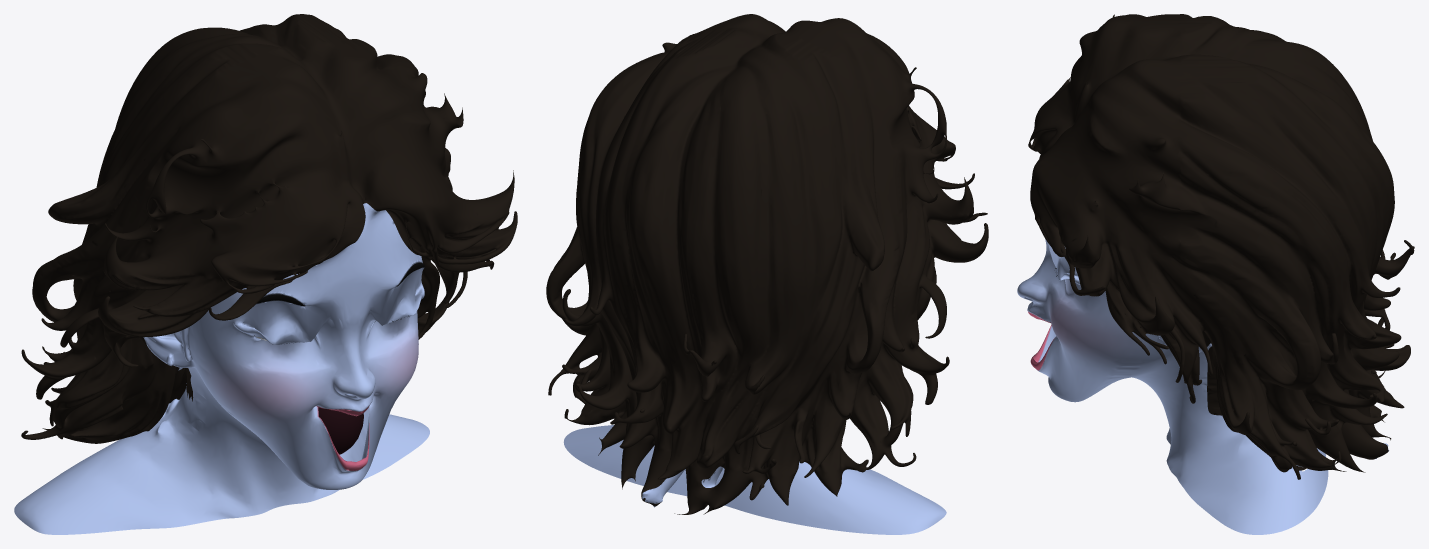
The model's file is krishna-fast-6a8529f28a30.glb.
3 renders of one model, left to right at view 1: azimuth 30°, elevation 25°; view 2: azimuth 150°, elevation 25°; view 3: azimuth 270°, elevation 25°, orthographic. The views are drawn at different scales.
Visible parts, largest first — view 1: Krishna hair, Krishna_face, Krishna_mouth_interior; view 2: Krishna hair, Krishna_face; view 3: Krishna hair, Krishna_face.
Part boxes in pixels (box(x1,y1,x2,y2)): Krishna hair: box(21, 14, 517, 443); Krishna_face: box(14, 203, 429, 534); Krishna_mouth_interior: box(318, 407, 363, 454); Krishna hair: box(546, 14, 988, 514); Krishna_face: box(563, 425, 946, 534); Krishna hair: box(1028, 14, 1414, 479); Krishna_face: box(1017, 239, 1388, 534).
Size of the model in its own units: 0.6225 by 0.6097 by 0.5265.
Materials: 11 (6 with a texture image).
